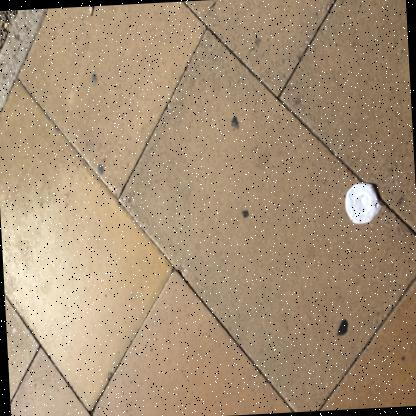Cigarette: (89, 6, 94, 15)
Plastic lid: (345, 182, 382, 223)
